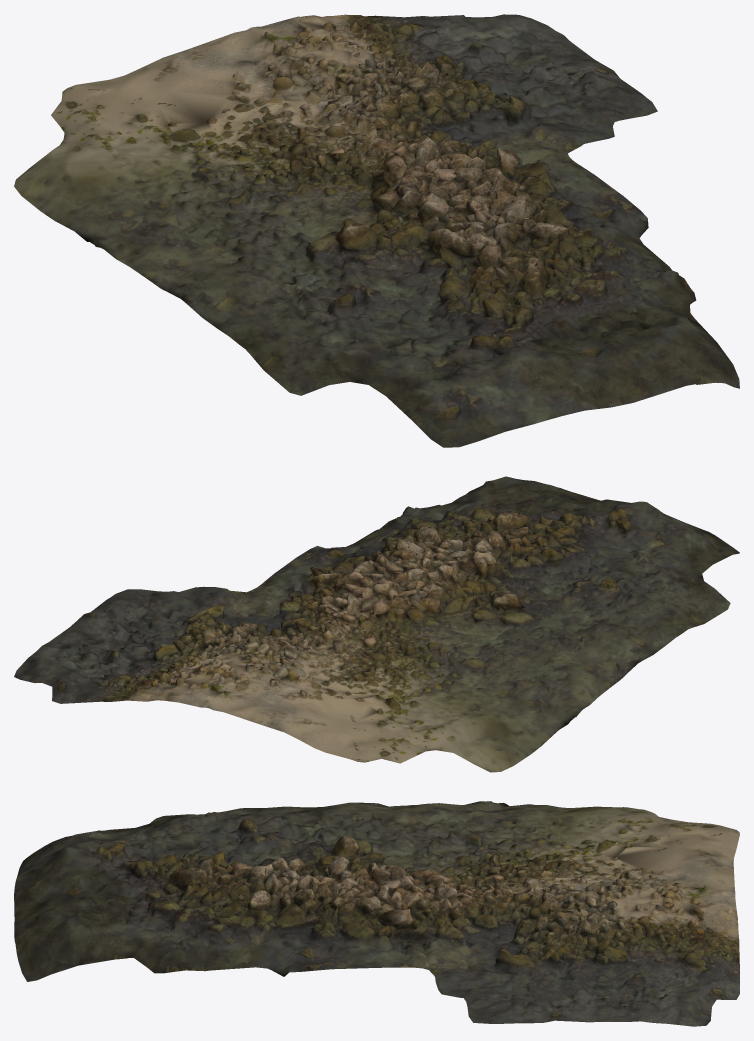
The model's file is coast_rocks_03.glb.
3 renders of one model, top to bottom at view 1: azimuth 30°, elevation 25°; view 2: azimuth 150°, elevation 25°; view 3: azimuth 270°, elevation 25°, orthographic. The views are drawn at different scales.
Visible parts, largest first — view 1: coast_rocks_03; view 2: coast_rocks_03; view 3: coast_rocks_03.
Boxes of the visible parts, box(x1,y1,x2,y2) form: coast_rocks_03: box(14, 14, 739, 447); coast_rocks_03: box(14, 476, 739, 772); coast_rocks_03: box(14, 801, 739, 1026).
Size of the model in its own units: 21.12 by 3.2 by 28.27.
1 material, 1 textured.
